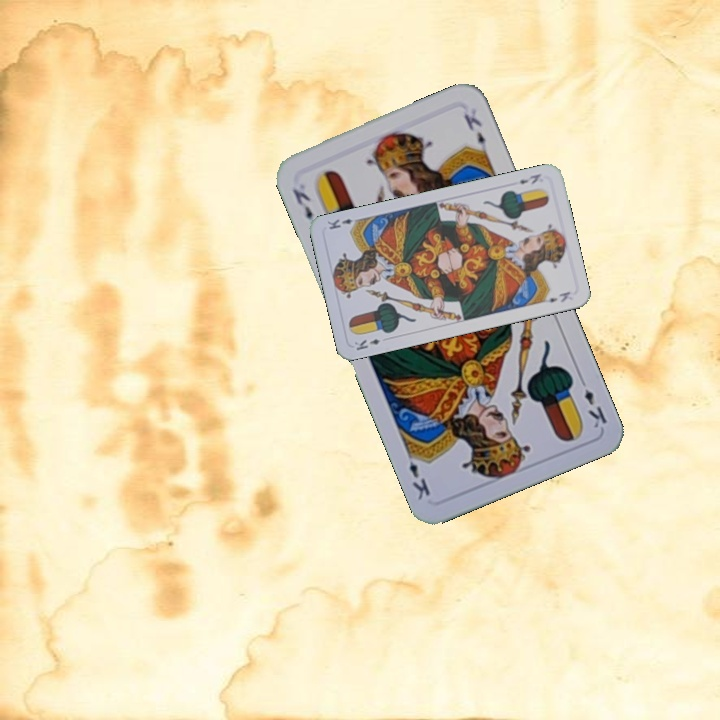EK: (575, 373, 610, 431), (288, 184, 315, 223), (350, 334, 383, 353), (515, 169, 543, 187)
